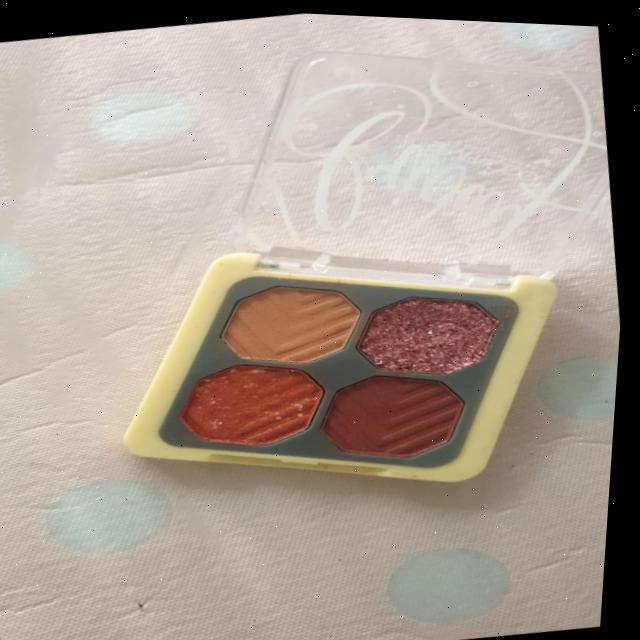highlighter: (113, 218, 574, 517)
